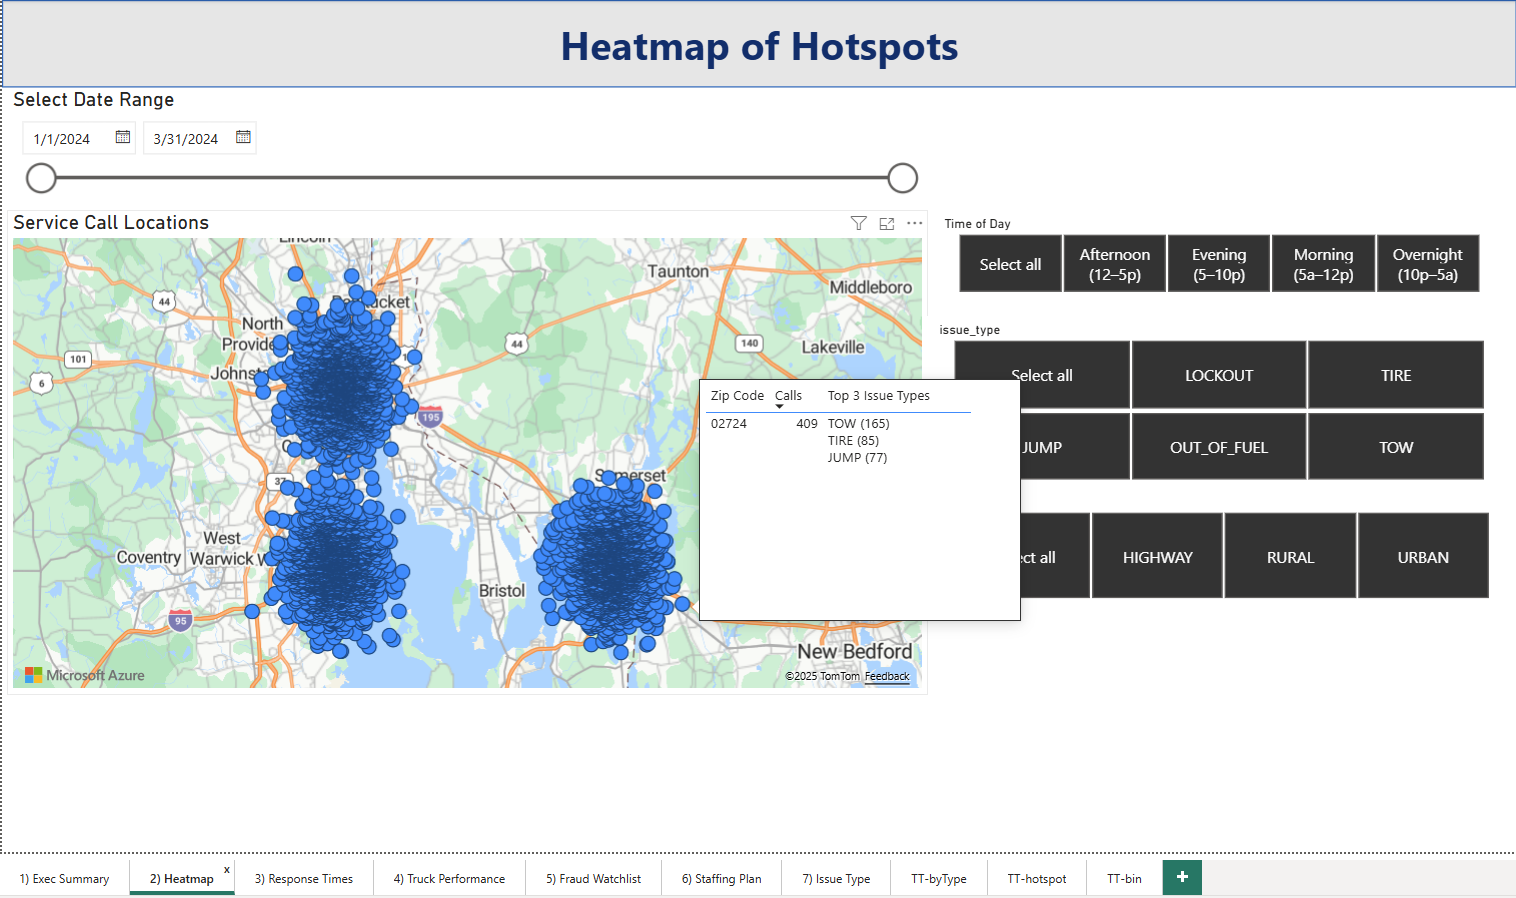

This screenshot's page, from the dashboard's own definition file:
{"tool":"powerbi","page":{"name":"2) Heatmap","canvas":[1280,720],"ordinal":1},"visuals":[{"type":"slicer","title":"Select Date Range","fields":{"Values":["roadside_requests.request_ts"]},"box":[4.6,73.6,777.6,104],"z":0},{"type":"shape","box":[0,0,1280,73.9],"z":1000},{"type":"azureMap","title":"Service Call Locations","fields":{"Y":["roadside_requests.latitude"],"X":["roadside_requests.longitude"]},"box":[4.6,177.6,777.6,409.5],"z":2000},{"type":"slicer","fields":{"Values":["roadside_requests.Time of Day"]},"box":[783.1,177.6,488.6,76.4],"z":3000},{"type":"slicer","fields":{"Values":["roadside_requests.issue_type"]},"box":[779.4,266.9,496.9,145.4],"z":4000},{"type":"slicer","fields":{"Values":["roadside_requests.road_type"]},"box":[783.1,412.3,496.9,100.3],"z":5000}]}

Visuals, with their boxes on the page's 1280x720 design canvas (x1, y1, x2, y2). These are canvas units, not pixel positions in the 1516x898 screenshot, which may show the page scaled, cropped or inside an application window:
"Select Date Range" slicer: 5,74,782,178
shape: 0,0,1280,74
"Service Call Locations" azureMap: 5,178,782,587
slicer - roadside_requests.Time of Day: 783,178,1272,254
slicer - roadside_requests.issue_type: 779,267,1276,412
slicer - roadside_requests.road_type: 783,412,1280,513
